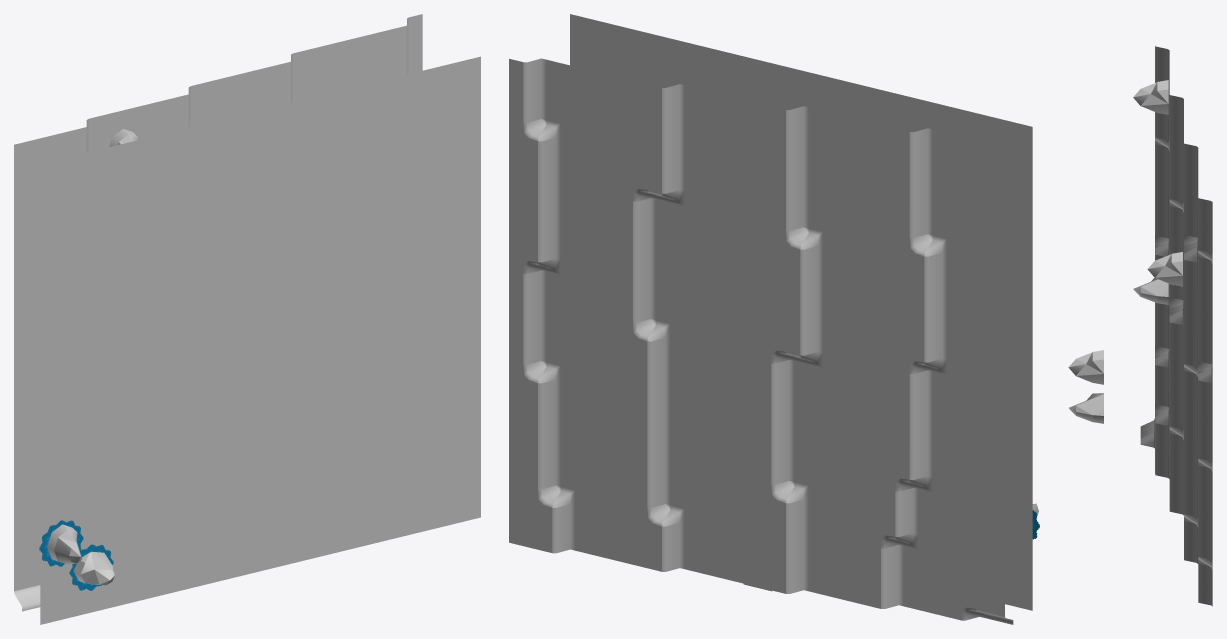
File: Barrier-Reef_15_05.obj
3 renders of one model, left to right at view 1: azimuth 30°, elevation 25°; view 2: azimuth 150°, elevation 25°; view 3: azimuth 270°, elevation 25°, orthographic. The views are drawn at different scales.
Visible parts, largest first — view 1: map; view 2: map; view 3: map.
Boxes of the visible parts, x1=… form: map: x1=14, y1=14, x2=480, y2=624; map: x1=509, y1=14, x2=1039, y2=624; map: x1=1068, y1=45, x2=1212, y2=606.
Bounding box in the file's own units: 32.3 × 32.13 × 10.04.
